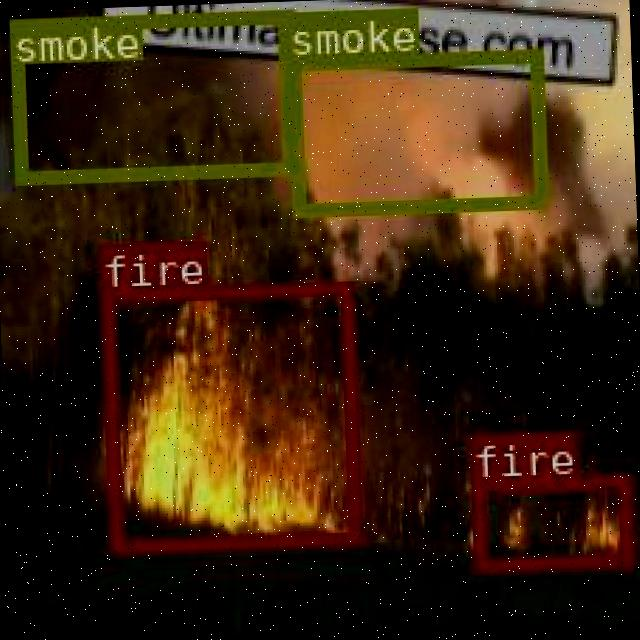fire: (98, 279, 358, 552), (469, 472, 629, 568)
smoke: (8, 8, 292, 182), (286, 46, 544, 215)
